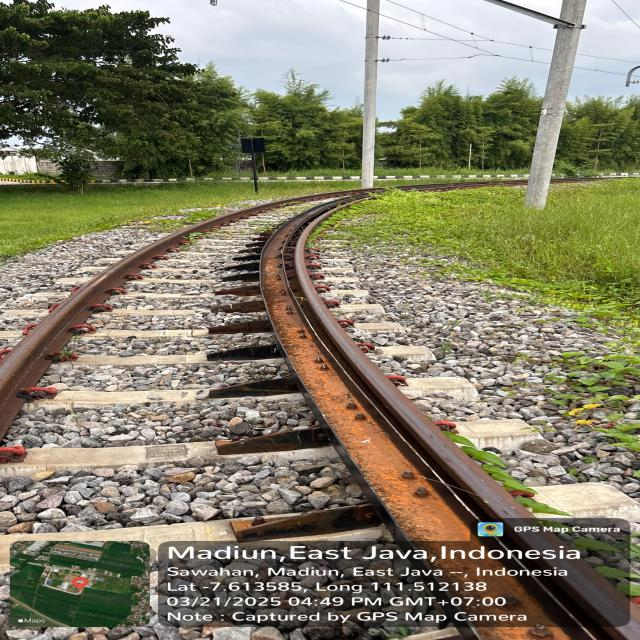rail-detection: (259, 190, 633, 640), (0, 201, 281, 435)
